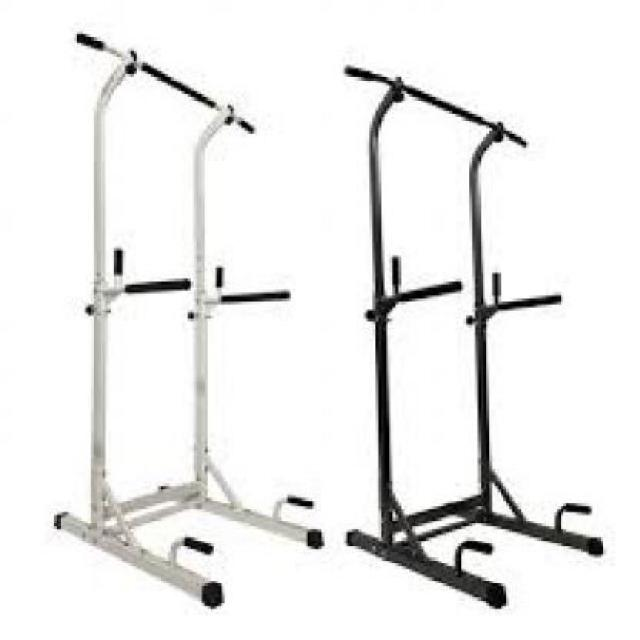chinning dipping: (56, 34, 324, 609), (338, 65, 612, 603)
